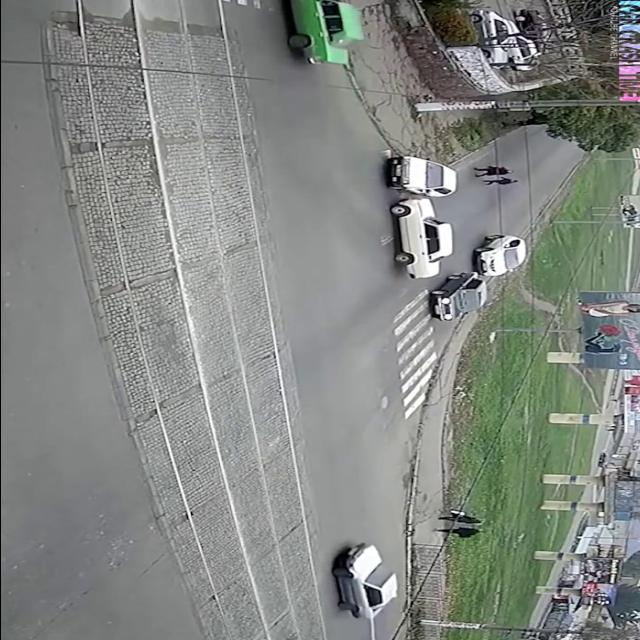accident: (374, 151, 463, 282)
non_accident: (421, 230, 535, 324)
